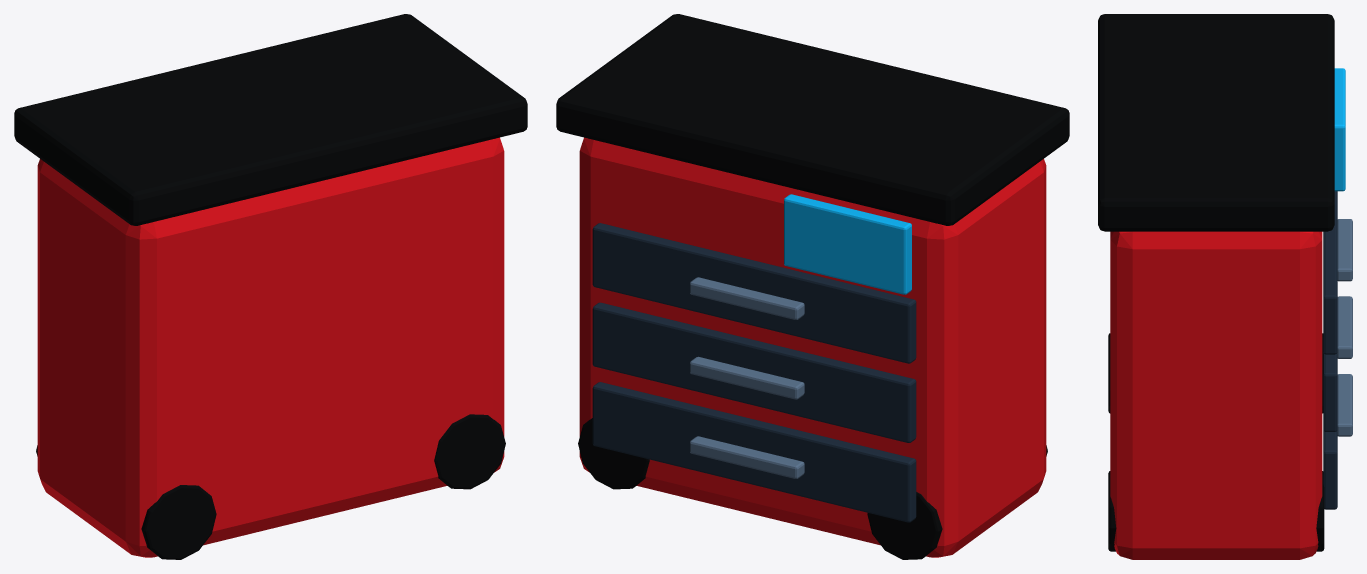
The model's file is solar_pit_tool_cabinet.obj.
3 views of the same model, side by side, from view 1: azimuth 30°, elevation 25°; view 2: azimuth 150°, elevation 25°; view 3: azimuth 270°, elevation 25° (orthographic). The views are drawn at different scales.
Parts seen in each view (by area): view 1: race_cabinet_body_M_red, race_cabinet_top_M_black, race_cabinet_wheel_3_M_black, race_cabinet_wheel_2_M_black; view 2: race_cabinet_body_M_red, race_cabinet_top_M_black, race_cabinet_drawer_2_M_gunmetal, race_cabinet_drawer_0_M_gunmetal, race_cabinet_drawer_1_M_gunmetal, race_cabinet_display_M_cyan, race_cabinet_wheel_1_M_black, race_cabinet_wheel_0_M_black, race_cabinet_handle_1_M_steel, race_cabinet_handle_2_M_steel, race_cabinet_handle_0_M_steel; view 3: race_cabinet_body_M_red, race_cabinet_top_M_black, race_cabinet_drawer_2_M_gunmetal, race_cabinet_display_M_cyan, race_cabinet_drawer_1_M_gunmetal, race_cabinet_drawer_0_M_gunmetal, race_cabinet_handle_0_M_steel, race_cabinet_handle_1_M_steel, race_cabinet_handle_2_M_steel, race_cabinet_wheel_0_M_black, race_cabinet_wheel_2_M_black.
Part boxes in pixels (x1,y1,x2,y2): race_cabinet_body_M_red: (37, 137, 504, 557); race_cabinet_top_M_black: (14, 14, 527, 225); race_cabinet_wheel_3_M_black: (141, 485, 216, 559); race_cabinet_wheel_2_M_black: (434, 414, 505, 489); race_cabinet_body_M_red: (579, 137, 1046, 557); race_cabinet_top_M_black: (556, 14, 1069, 225); race_cabinet_drawer_2_M_gunmetal: (592, 223, 916, 363); race_cabinet_drawer_0_M_gunmetal: (592, 382, 916, 522); race_cabinet_drawer_1_M_gunmetal: (592, 302, 916, 442); race_cabinet_display_M_cyan: (784, 194, 911, 294); race_cabinet_wheel_1_M_black: (867, 492, 942, 559); race_cabinet_wheel_0_M_black: (578, 418, 649, 489); race_cabinet_handle_1_M_steel: (690, 356, 804, 399); race_cabinet_handle_2_M_steel: (690, 277, 804, 319); race_cabinet_handle_0_M_steel: (690, 436, 804, 478); race_cabinet_body_M_red: (1110, 231, 1322, 559); race_cabinet_top_M_black: (1098, 14, 1334, 231); race_cabinet_drawer_2_M_gunmetal: (1323, 191, 1337, 354); race_cabinet_display_M_cyan: (1334, 68, 1345, 191); race_cabinet_drawer_1_M_gunmetal: (1323, 352, 1337, 431); race_cabinet_drawer_0_M_gunmetal: (1323, 430, 1337, 509); race_cabinet_handle_0_M_steel: (1337, 374, 1352, 436); race_cabinet_handle_1_M_steel: (1337, 296, 1352, 358); race_cabinet_handle_2_M_steel: (1337, 219, 1352, 281); race_cabinet_wheel_0_M_black: (1316, 471, 1324, 551); race_cabinet_wheel_2_M_black: (1108, 471, 1116, 551).
Bounding box in the file's own units: 1.1 × 1.01 × 0.625.
